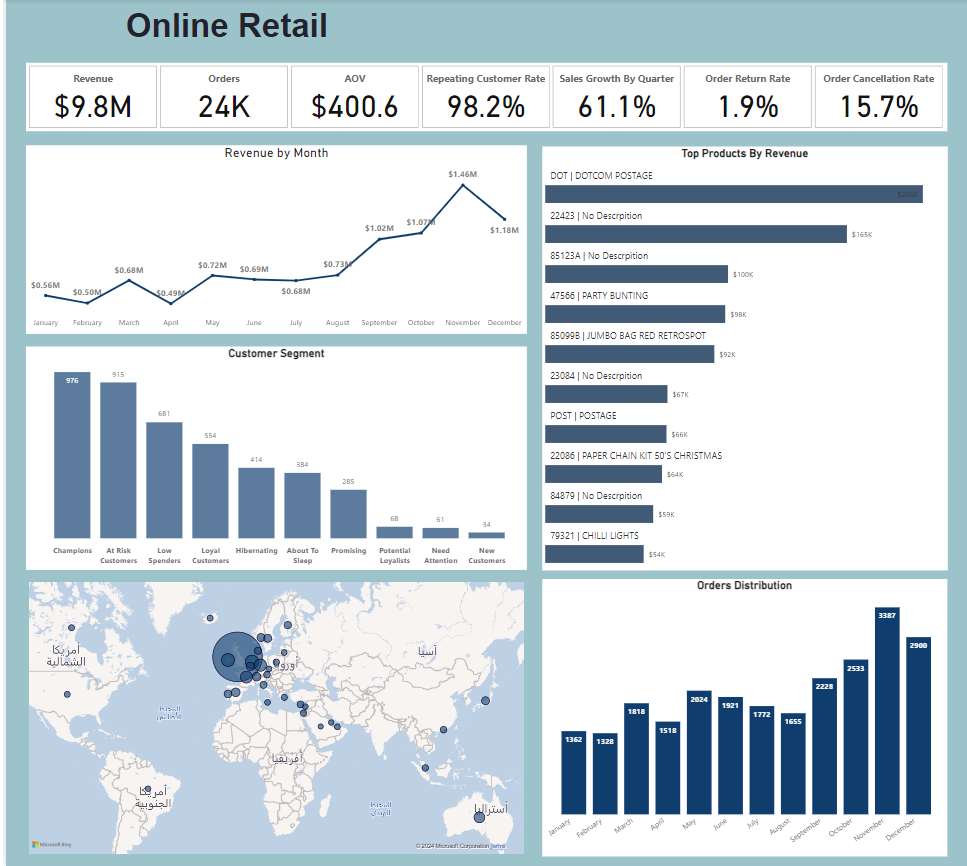

The dashboard page shown, as its layout file describes it:
{"tool":"powerbi","page":{"name":"Online Retail","canvas":[1550,1400],"ordinal":0},"visuals":[{"type":"cardVisual","fields":{"Data":["Online Retail Dataset.Total Revenue","Online Retail Dataset.Total Orders","Online Retail Dataset.AOV","Online Retail Dataset.Repeat Customer Percentage","Online Retail Dataset.Sales Growth By Quarter","Online Retail Dataset.Order Return Rate","Online Retail Dataset.Order Cancellation Rate"]},"box":[32.6,102,1484.7,110.7],"z":0},{"type":"lineChart","title":"Revenue by Month","fields":{"Category":["Online Retail Dataset.InvoiceDate.Variation.Date Hierarchy.Year","Online Retail Dataset.InvoiceDate.Variation.Date Hierarchy.Quarter","Online Retail Dataset.InvoiceDate.Variation.Date Hierarchy.Month","Online Retail Dataset.InvoiceDate.Variation.Date Hierarchy.Day"],"Y":["Online Retail Dataset.Total Revenue"]},"box":[32.6,236.6,807.4,303.9],"z":1000},{"type":"textbox","box":[155,8.9,401.5,73.7],"z":2000},{"type":"map","fields":{"Category":["Online Retail Dataset.Country"],"Size":["Online Retail Dataset.Total Revenue"]},"box":[32.5,935,807.5,447.5],"z":3000},{"type":"columnChart","title":"Customer Segment","fields":{"Category":["RFM Dataset.Segment"],"Y":["CountNonNull(RFM Dataset.CustomerID)"]},"box":[32.6,560,807.4,360.3],"z":5000},{"type":"clusteredBarChart","title":"Top Products By Revenue","fields":{"Y":["Online Retail Dataset.Labels Bar Chart","Online Retail Dataset.Total Revenue"],"Category":["Online Retail Dataset.StockCode"]},"box":[864,236.9,653.2,682.9],"z":6000},{"type":"columnChart","title":"Orders Distribution","fields":{"Category":["Online Retail Dataset.InvoiceDate.Variation.Date Hierarchy.Month"],"Y":["Online Retail Dataset.Total Orders"]},"box":[865,935,652.5,447.5],"z":6001}]}

Visuals, with their boxes in screenshot pixels (x1, y1, x2, y2), scaled from the page's 1550x1400 canvas onto the 967x866 screenshot:
cardVisual - Online Retail Dataset.Total Revenue x Online Retail Dataset.Total Orders: Rect(20, 63, 947, 132)
"Revenue by Month" lineChart: Rect(20, 146, 524, 334)
textbox: Rect(97, 6, 347, 51)
map - Online Retail Dataset.Country x Online Retail Dataset.Total Revenue: Rect(20, 578, 524, 855)
"Customer Segment" columnChart: Rect(20, 346, 524, 569)
"Top Products By Revenue" clusteredBarChart: Rect(539, 147, 947, 569)
"Orders Distribution" columnChart: Rect(540, 578, 947, 855)
